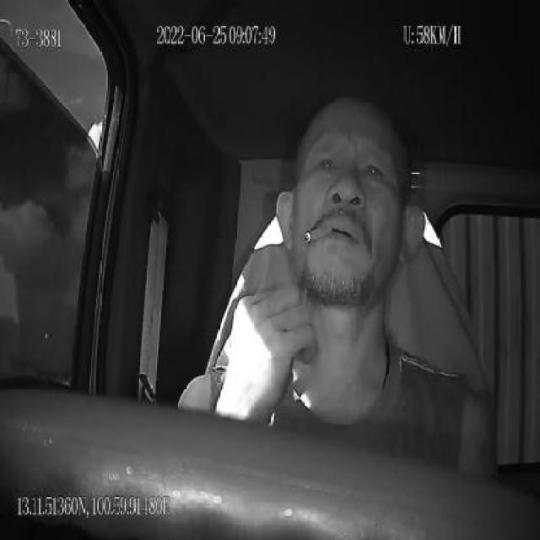smoking: (303, 222, 334, 244)
